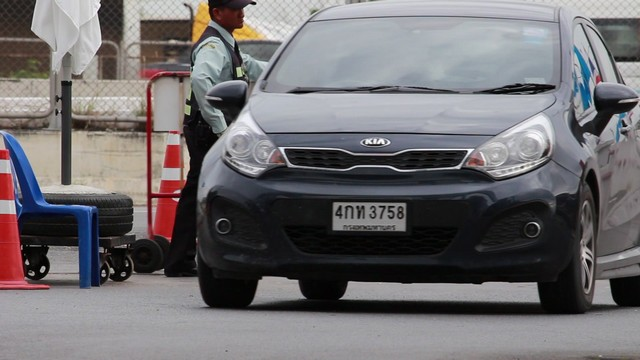in: (333, 201, 407, 232)
out: (329, 198, 411, 237)
